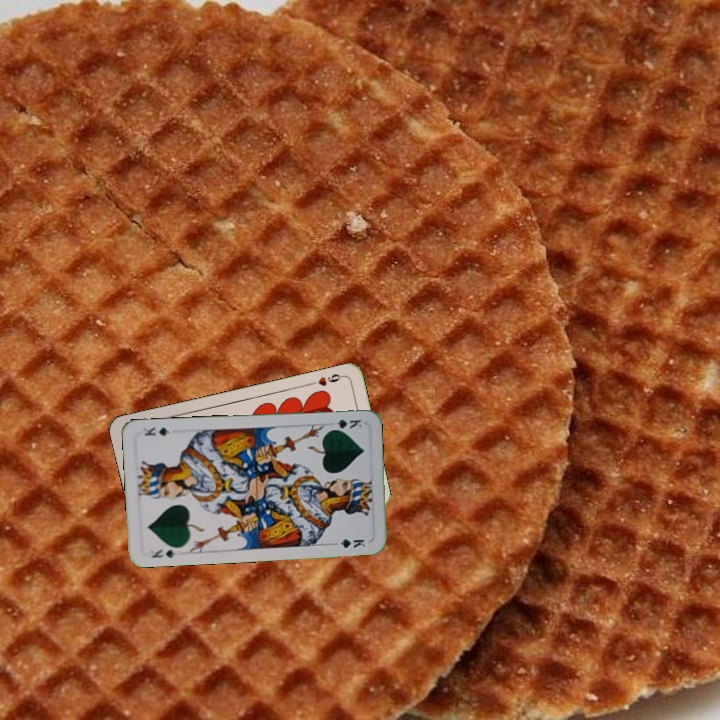GK: (325, 415, 364, 433), (148, 544, 180, 560)
H9: (307, 370, 347, 389)
